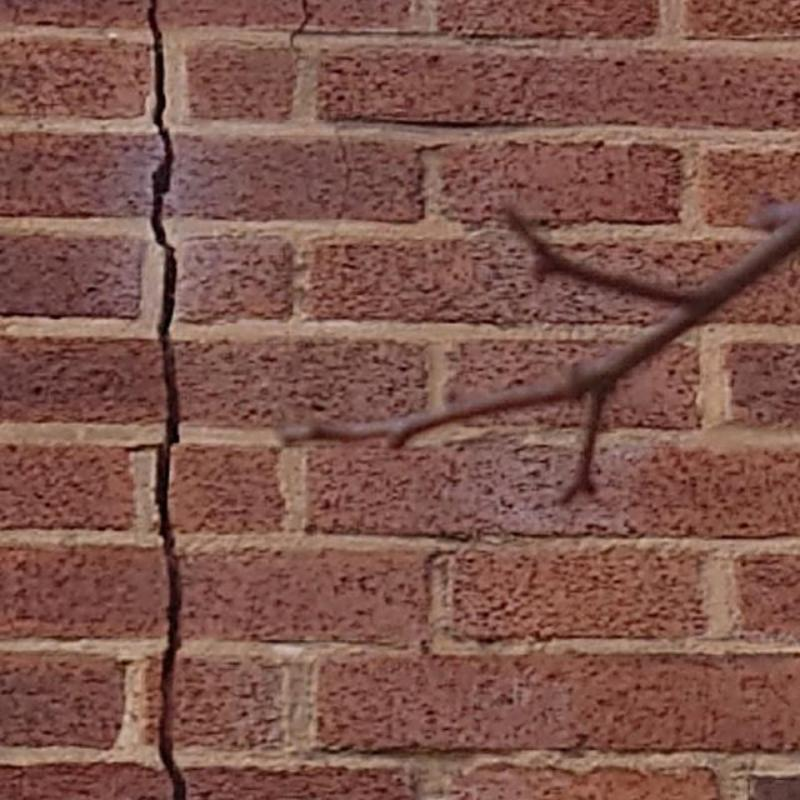pothole: (124, 1, 186, 799), (331, 125, 350, 235), (290, 0, 311, 49)
